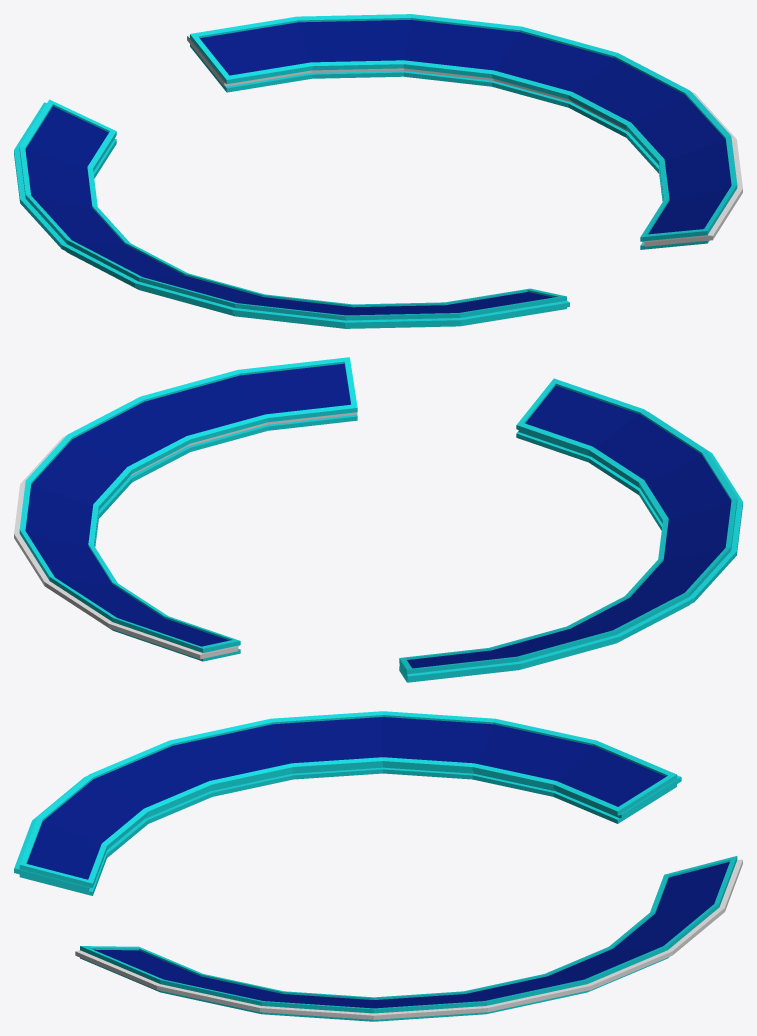
File: Level15B2.fbx
3 views of the same model, one above another, from view 1: azimuth 30°, elevation 25°; view 2: azimuth 150°, elevation 25°; view 3: azimuth 270°, elevation 25° (orthographic). The views are drawn at different scales.
Parts seen in each view (by area): view 1: Icosphere.001; view 2: Icosphere.001; view 3: Icosphere.001.
Part boxes in pixels (bbox=[...]): Icosphere.001: bbox=[14, 14, 742, 328]; Icosphere.001: bbox=[14, 357, 742, 682]; Icosphere.001: bbox=[14, 711, 742, 1021].
Size of the model in its own units: 993 by 50.1 by 1006.
